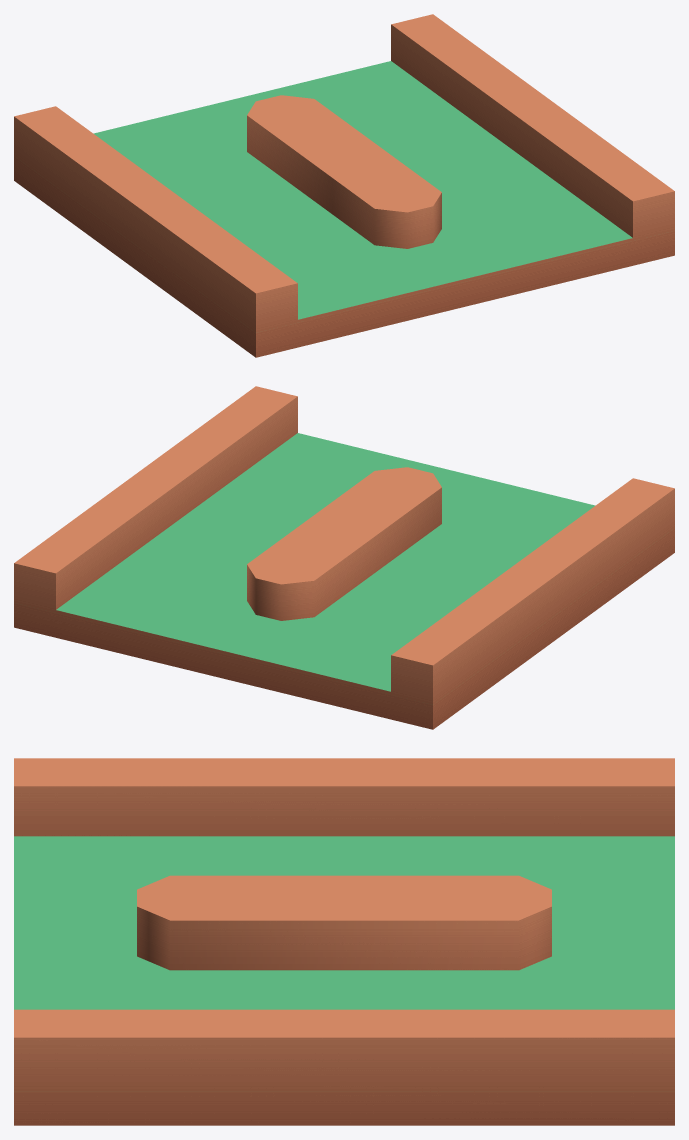
File: obstacle-block.glb
3 renders of one model, top to bottom at view 1: azimuth 30°, elevation 25°; view 2: azimuth 150°, elevation 25°; view 3: azimuth 270°, elevation 25°, orthographic. The views are drawn at different scales.
Parts seen in each view (by area): view 1: obstacle-block; view 2: obstacle-block; view 3: obstacle-block.
Boxes of the visible parts, x1,y1,x2,y2 form: obstacle-block: (14, 14, 674, 357); obstacle-block: (14, 386, 674, 729); obstacle-block: (14, 758, 674, 1125).
Bounding box in the file's own units: 0.9999 × 0.1467 × 0.9999.
1 material, 1 textured.
